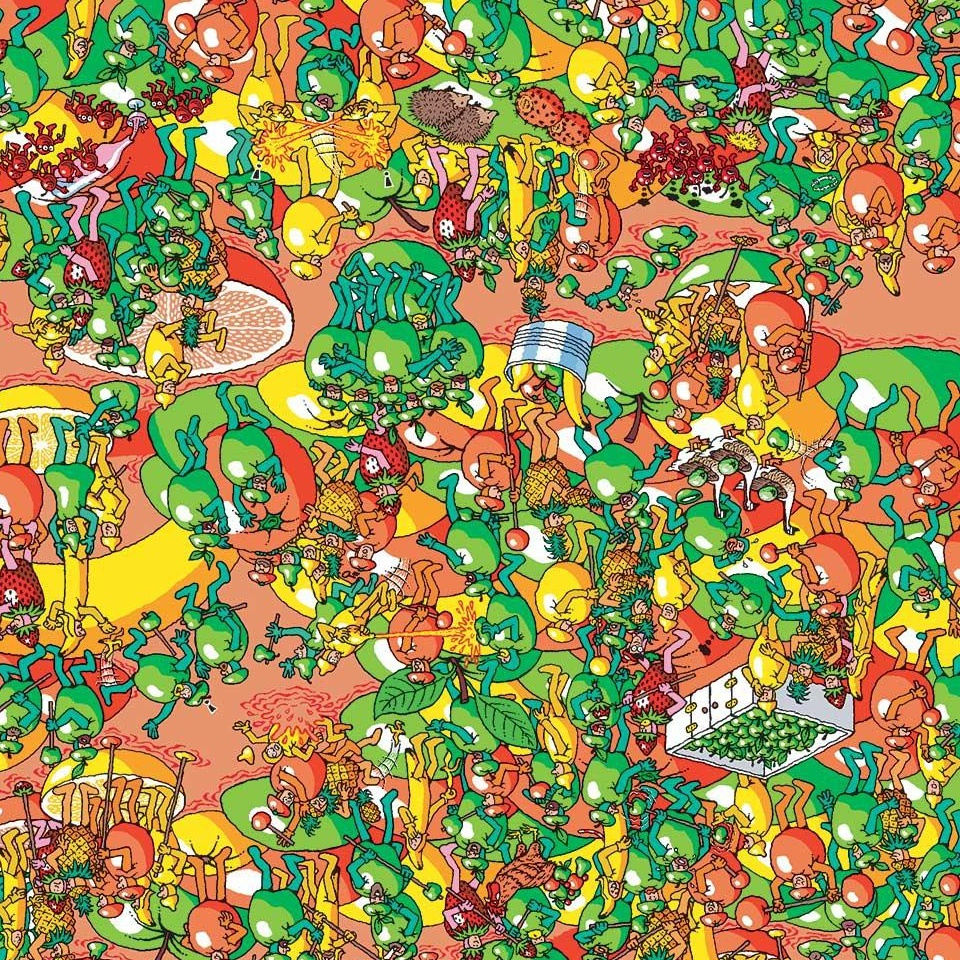waldo: (620, 635, 646, 664)
